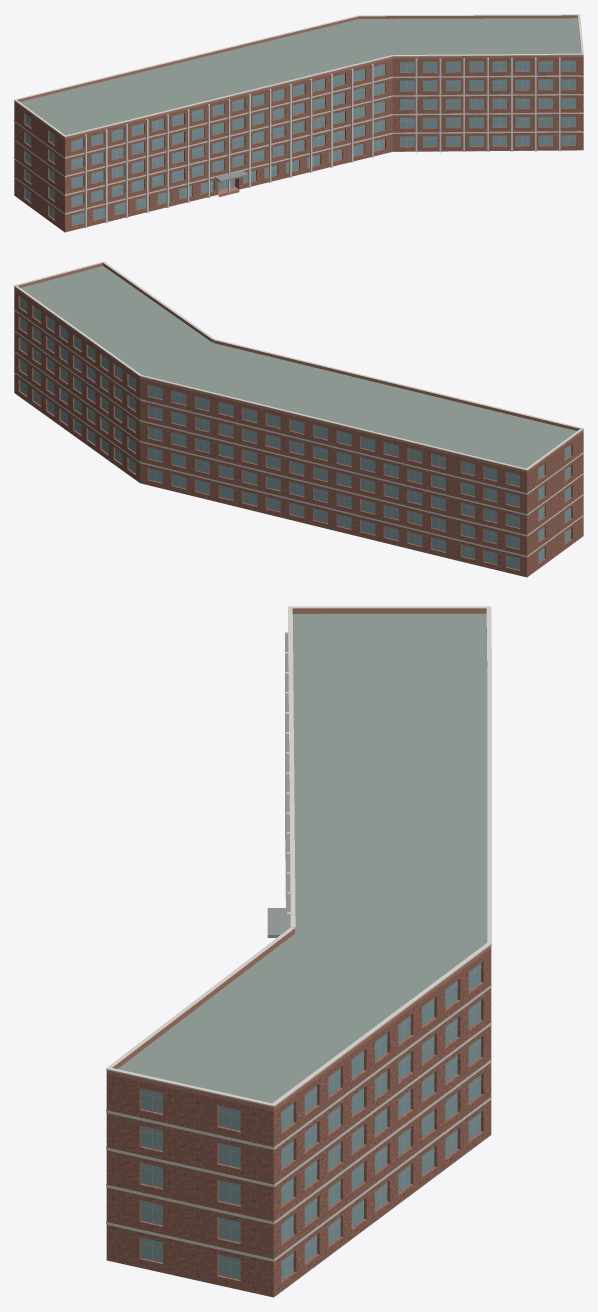
3 views of the same model, one above another, from view 1: azimuth 30°, elevation 25°; view 2: azimuth 150°, elevation 25°; view 3: azimuth 270°, elevation 25° (orthographic). The views are drawn at different scales.
Visible parts, largest first — view 1: gwanggyo__wall, gwanggyo__roof, gwanggyo__glass, gwanggyo__trim, gwanggyo__parapet, gwanggyo__frame; view 2: gwanggyo__wall, gwanggyo__roof, gwanggyo__glass, gwanggyo__trim, gwanggyo__parapet, gwanggyo__frame; view 3: gwanggyo__roof, gwanggyo__wall, gwanggyo__glass, gwanggyo__trim, gwanggyo__parapet, gwanggyo__frame.
Part boxes in pixels (box(x1,y1,x2,y2)): gwanggyo__wall: box(14, 57, 583, 232); gwanggyo__roof: box(15, 18, 581, 232); gwanggyo__glass: box(25, 60, 575, 225); gwanggyo__trim: box(14, 14, 583, 228); gwanggyo__parapet: box(14, 15, 583, 138); gwanggyo__frame: box(25, 60, 575, 223); gwanggyo__wall: box(14, 288, 583, 577); gwanggyo__roof: box(21, 266, 576, 577); gwanggyo__glass: box(20, 297, 570, 569); gwanggyo__trim: box(14, 261, 583, 557); gwanggyo__parapet: box(14, 263, 583, 472); gwanggyo__frame: box(20, 298, 571, 568); gwanggyo__roof: box(107, 613, 490, 1297); gwanggyo__wall: box(106, 949, 491, 1297); gwanggyo__glass: box(141, 963, 480, 1280); gwanggyo__trim: box(106, 606, 491, 1261); gwanggyo__parapet: box(106, 608, 491, 1110); gwanggyo__frame: box(141, 966, 481, 1277).
Size of the model in its own units: 89.12 by 16.35 by 29.11.
9 materials, 1 textured.
